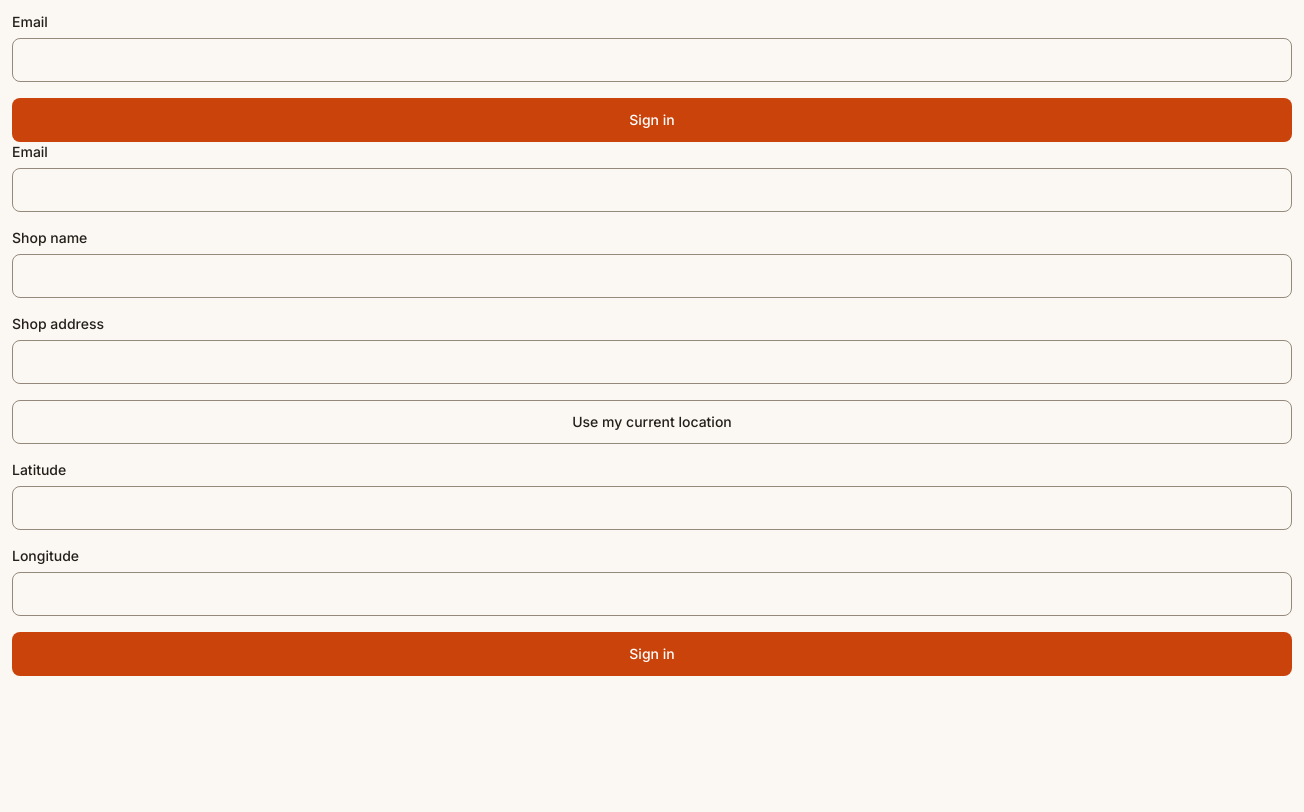
Test: the local way in › takes the shop's place from the browser
The image size is (1304, 812).
Step 1. Click the button "Use my current location" → (652, 422), box x1=12 y1=400 x2=1292 y2=444
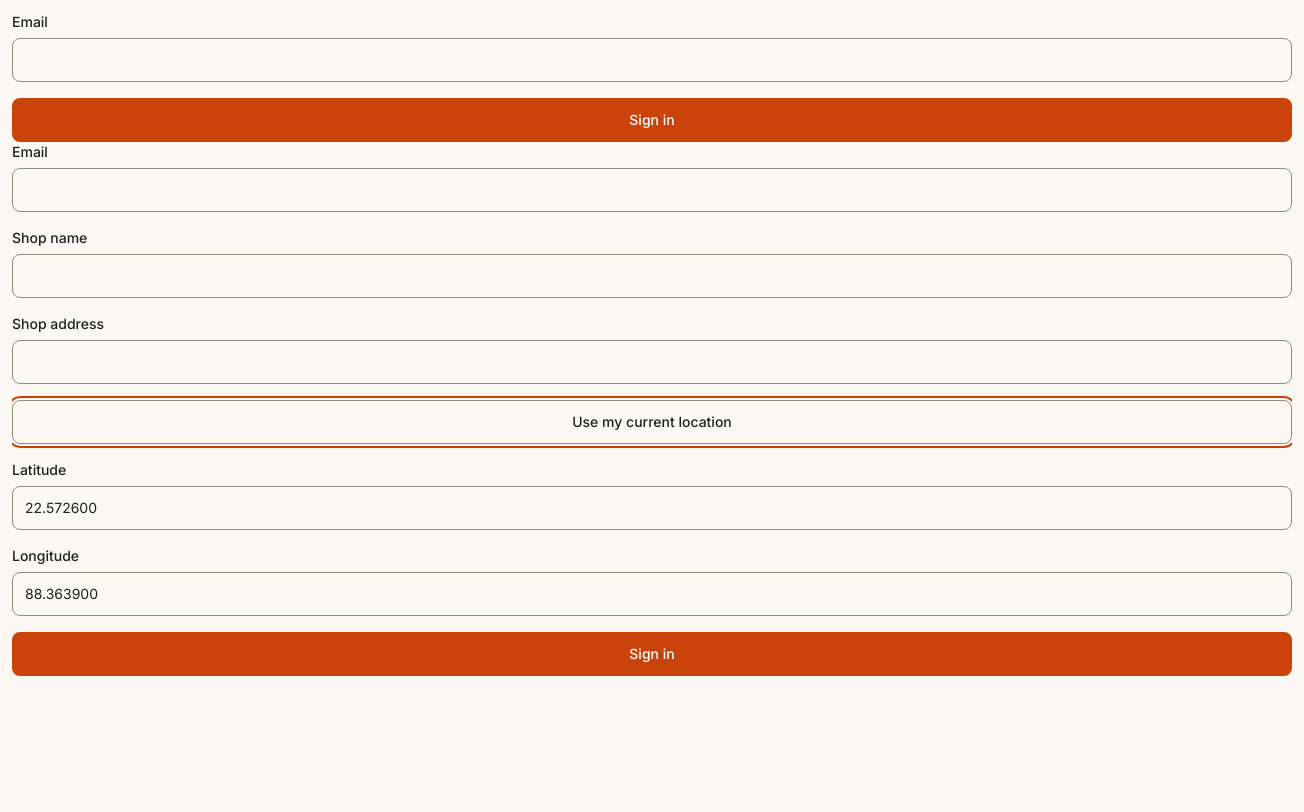
Expected: the field labelled "Latitude" holds "22.572600", x1=12 y1=486 x2=1292 y2=530
Expected: the field labelled "Longitude" holds "88.363900", x1=12 y1=572 x2=1292 y2=616
